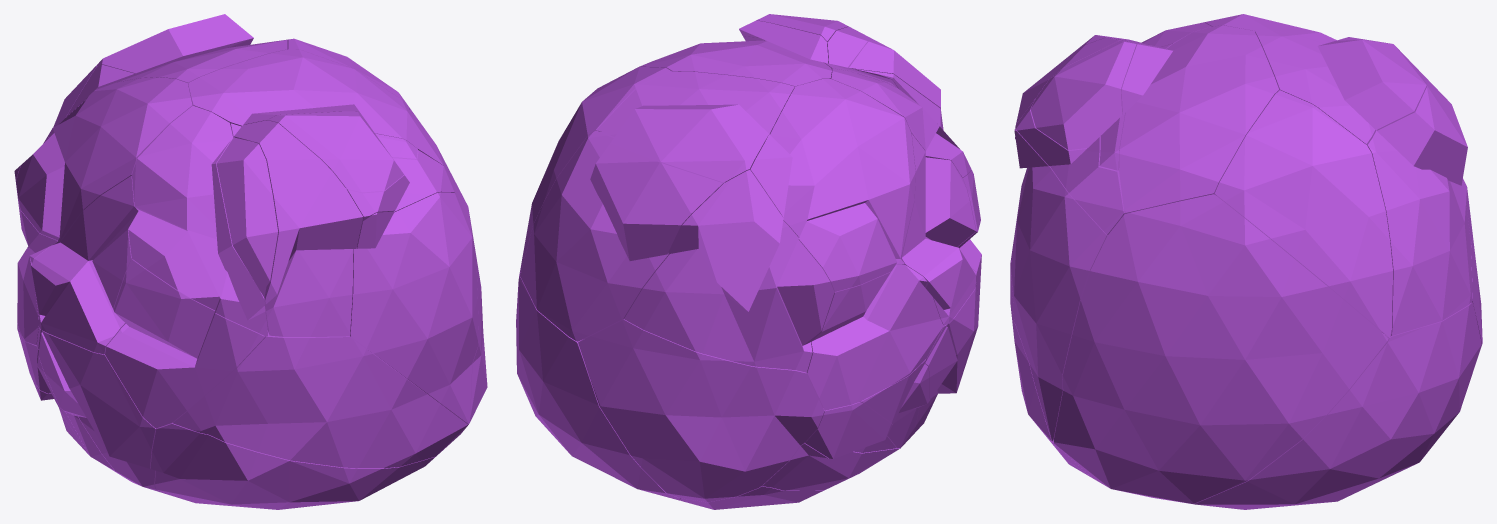
Rendered from pugFract.fbx.
3 views of the same model, side by side, from view 1: azimuth 30°, elevation 25°; view 2: azimuth 150°, elevation 25°; view 3: azimuth 270°, elevation 25° (orthographic). The views are drawn at different scales.
Visible parts, largest first — view 1: PugComplete_cell.008, PugComplete_cell.016, PugComplete_cell.003, PugComplete_cell.009, PugComplete_cell.001, PugComplete_cell.013, PugComplete_cell, PugComplete_cell.014, PugComplete_cell.020, PugComplete_cell.010, PugComplete_cell.022, PugComplete_cell.015 (+7 smaller); view 2: PugComplete_cell.018, PugComplete_cell.023, PugComplete_cell.001, PugComplete_cell.005, PugComplete_cell.022, PugComplete_cell.024, PugComplete_cell.012, PugComplete_cell.020, PugComplete_cell.014, PugComplete_cell.003, PugComplete_cell.021, PugComplete_cell.010 (+8 smaller); view 3: PugComplete_cell.002, PugComplete_cell.021, PugComplete_cell.012, PugComplete_cell.014, PugComplete_cell.005, PugComplete_cell.016, PugComplete_cell.022, PugComplete_cell.015, PugComplete_cell.017, PugComplete_cell.008, PugComplete_cell.001, PugComplete_cell.009 (+2 smaller).
Part boxes in pixels (x1,y1,x2,y2): PugComplete_cell.008: (172, 330, 468, 468); PugComplete_cell.016: (350, 192, 478, 423); PugComplete_cell.003: (128, 105, 267, 336); PugComplete_cell.009: (231, 120, 363, 336); PugComplete_cell.001: (16, 64, 193, 244); PugComplete_cell.013: (105, 259, 264, 427); PugComplete_cell: (150, 423, 443, 509); PugComplete_cell.014: (188, 49, 443, 165); PugComplete_cell.020: (31, 175, 139, 354); PugComplete_cell.010: (36, 327, 159, 491); PugComplete_cell.022: (97, 14, 287, 86); PugComplete_cell.015: (268, 111, 417, 192); PugComplete_cell.018: (578, 319, 824, 502); PugComplete_cell.023: (624, 170, 834, 372); PugComplete_cell.001: (750, 79, 915, 291); PugComplete_cell.005: (520, 130, 724, 341); PugComplete_cell.022: (597, 71, 794, 182); PugComplete_cell.024: (806, 264, 943, 410); PugComplete_cell.012: (516, 277, 680, 500); PugComplete_cell.020: (900, 133, 976, 325); PugComplete_cell.014: (639, 20, 831, 88); PugComplete_cell.003: (830, 68, 971, 177); PugComplete_cell.021: (519, 67, 671, 276); PugComplete_cell.010: (912, 282, 978, 435); PugComplete_cell.002: (1053, 194, 1388, 503); PugComplete_cell.021: (1214, 90, 1392, 337); PugComplete_cell.012: (1146, 302, 1481, 509); PugComplete_cell.014: (1119, 25, 1279, 213); PugComplete_cell.005: (1366, 68, 1472, 335); PugComplete_cell.016: (1011, 128, 1107, 441); PugComplete_cell.022: (1255, 30, 1426, 144); PugComplete_cell.015: (1030, 40, 1138, 170); PugComplete_cell.017: (1015, 99, 1125, 235); PugComplete_cell.008: (1010, 253, 1089, 475); PugComplete_cell.001: (1204, 14, 1381, 43); PugComplete_cell.009: (1015, 37, 1172, 216).
Size of the model in its own units: 144 by 140 by 143.
